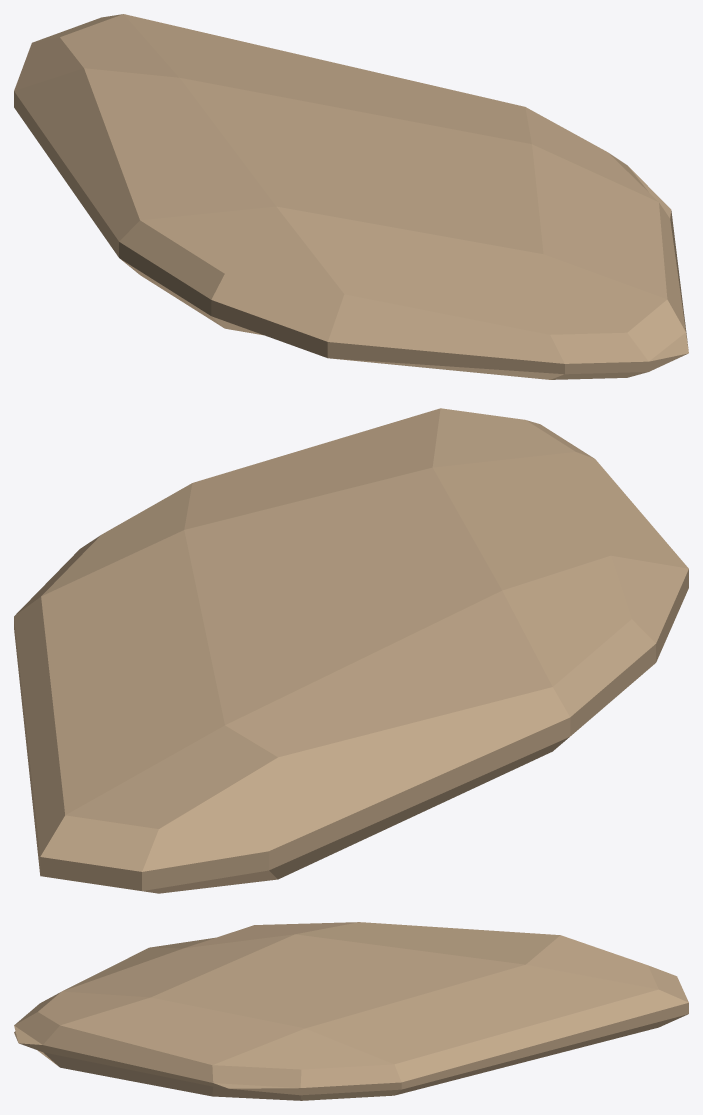
The model's file is rock_11.FBX.
3 views of the same model, one above another, from view 1: azimuth 30°, elevation 25°; view 2: azimuth 150°, elevation 25°; view 3: azimuth 270°, elevation 25° (orthographic). The views are drawn at different scales.
Parts seen in each view (by area): view 1: rock_11; view 2: rock_11; view 3: rock_11.
Boxes of the visible parts, x1=… form: rock_11: x1=14, y1=14, x2=688, y2=379; rock_11: x1=14, y1=408, x2=688, y2=893; rock_11: x1=14, y1=922, x2=688, y2=1100.
Bounding box in the file's own units: 1465 × 324 × 2669.
